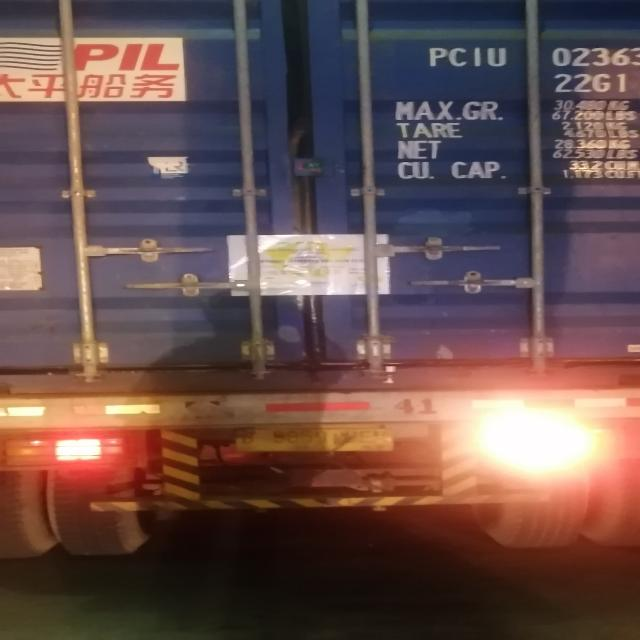seal: (383, 363, 398, 384)
